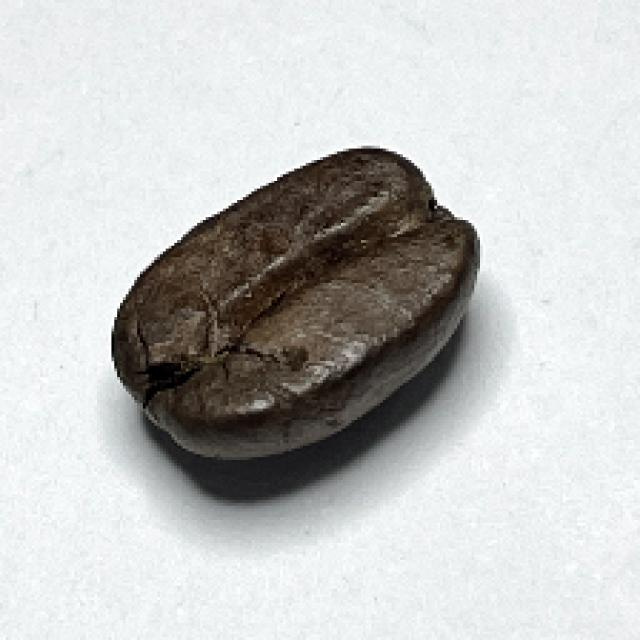bean: (101, 142, 482, 463)
